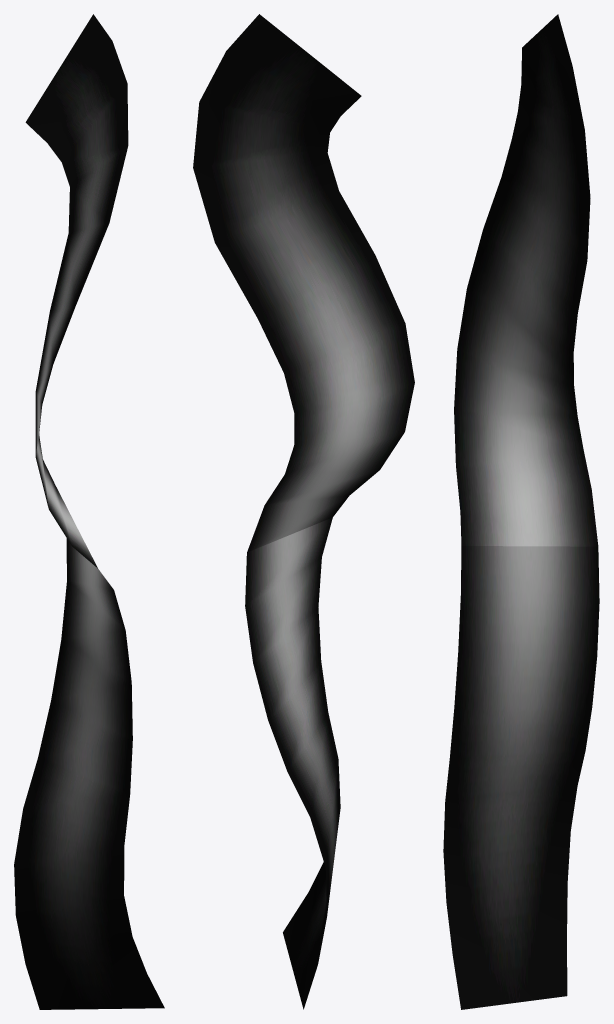
The model's file is vfx_kurp_0531.dae.
3 renders of one model, left to right at view 1: azimuth 30°, elevation 25°; view 2: azimuth 150°, elevation 25°; view 3: azimuth 270°, elevation 25°, orthographic. The views are drawn at different scales.
Parts seen in each view (by area): view 1: vfx_kurp_0531; view 2: vfx_kurp_0531; view 3: vfx_kurp_0531.
Boxes of the visible parts, box(x1,y1,x2,y2) form: vfx_kurp_0531: box(14, 14, 164, 1009); vfx_kurp_0531: box(193, 14, 414, 1009); vfx_kurp_0531: box(443, 14, 599, 1009).
Bounding box in the file's own units: 1.76 × 1.48 × 10.5.
1 material, 1 textured.
